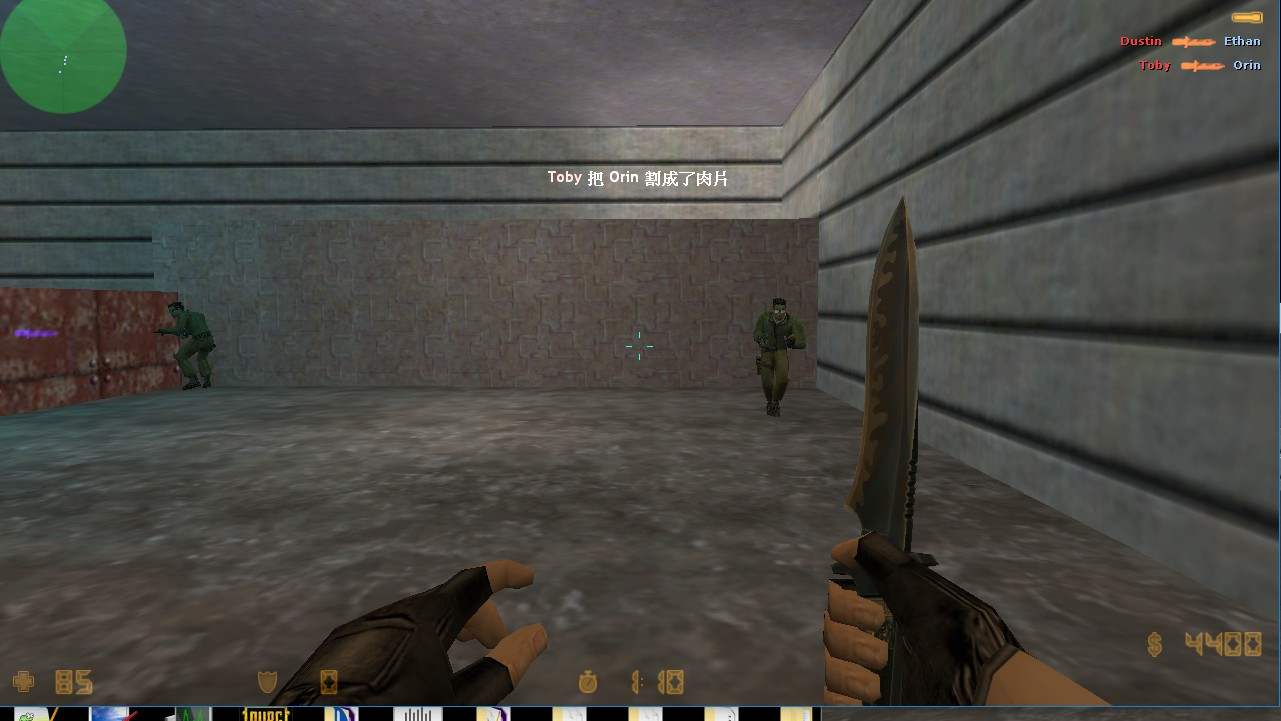person: (744, 289, 819, 427), (147, 298, 229, 397)
